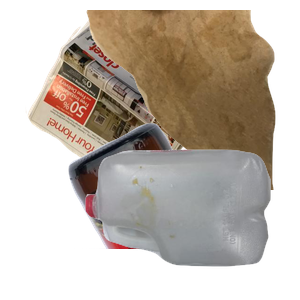glass: (66, 120, 300, 300)
paper: (23, 10, 245, 190)
plastic: (83, 147, 300, 300)
trash: (84, 10, 300, 190)
